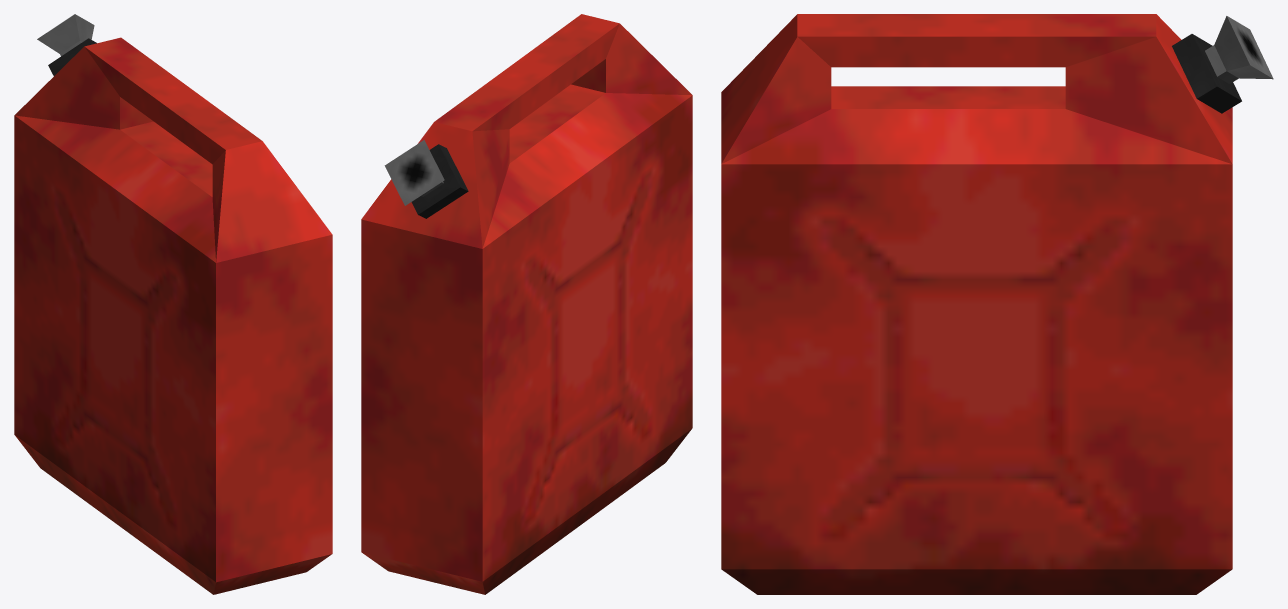
Rendered from GasCanister.fbx.
The picture shows the model from 3 angles, left to right: view 1: azimuth 30°, elevation 25°; view 2: azimuth 150°, elevation 25°; view 3: azimuth 270°, elevation 25°; orthographic projection. The views are drawn at different scales.
Parts seen in each view (by area): view 1: Cube.003; view 2: Cube.003; view 3: Cube.003.
Part boxes in pixels (box(x1,y1,x2,y2)): Cube.003: box(14, 14, 332, 594); Cube.003: box(361, 14, 692, 594); Cube.003: box(721, 14, 1273, 594).
Bounding box in the file's own units: 30 × 107 × 97.23.
